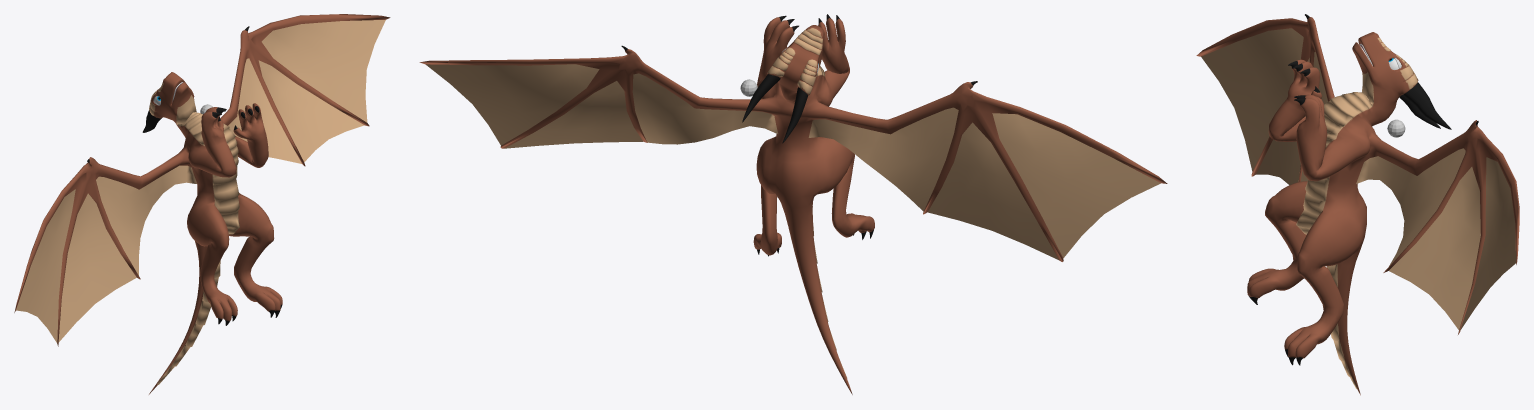
Rendered from Drgn9-6.obj.
3 views of the same model, side by side, from view 1: azimuth 30°, elevation 25°; view 2: azimuth 150°, elevation 25°; view 3: azimuth 270°, elevation 25° (orthographic). The views are drawn at different scales.
Visible parts, largest first — view 1: Drgn_Drgn.Mesh; view 2: Drgn_Drgn.Mesh; view 3: Drgn_Drgn.Mesh.
Part boxes in pixels (left/top/right/bottom): Drgn_Drgn.Mesh: left=14, top=14, right=390, bottom=394; Drgn_Drgn.Mesh: left=419, top=14, right=1167, bottom=394; Drgn_Drgn.Mesh: left=1196, top=14, right=1519, bottom=395.
Bounding box in the file's own units: 2.71 × 1.59 × 1.23.
Materials: 8 (7 with a texture image).
